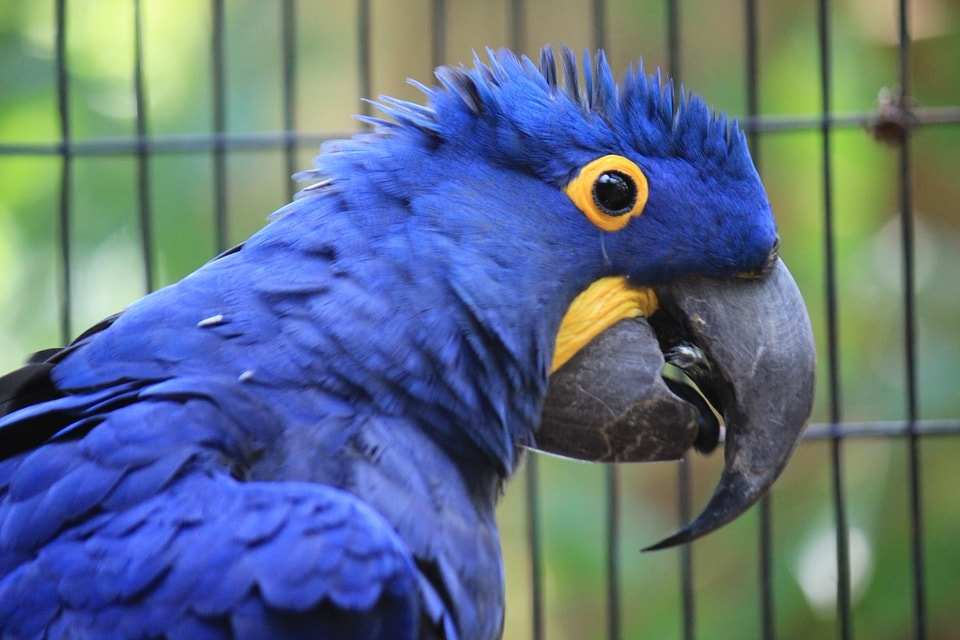guacamaya: (170, 40, 817, 640)
